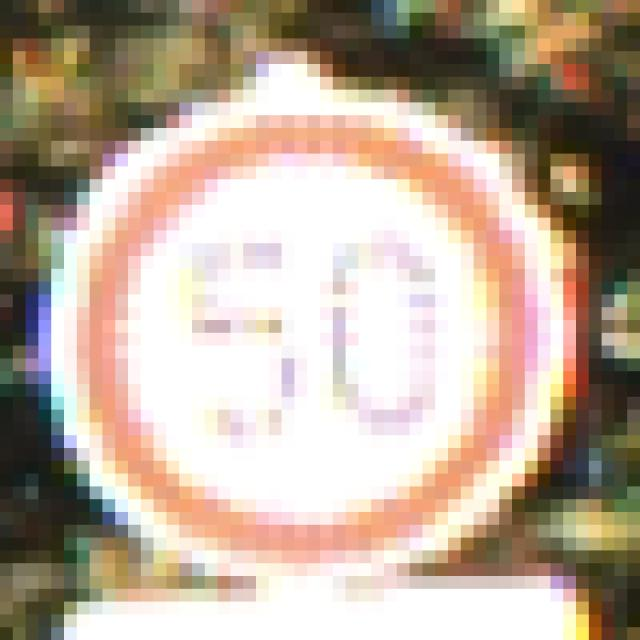Limite-50: (49, 77, 578, 586)
